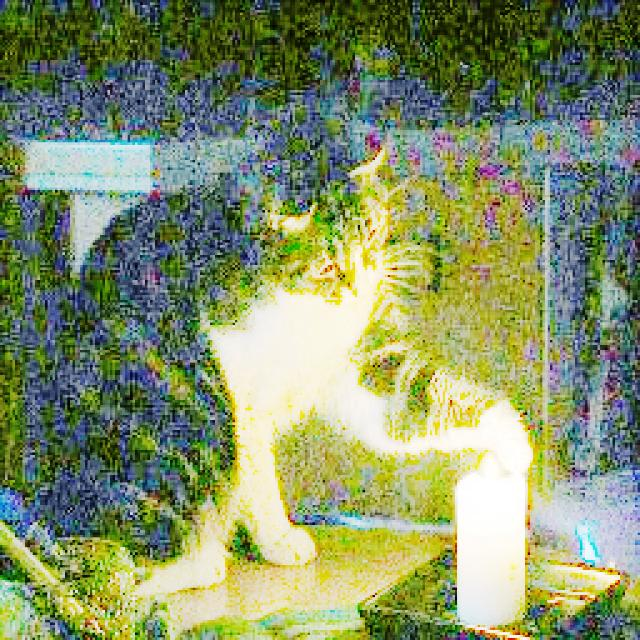cat: (27, 82, 541, 596)
